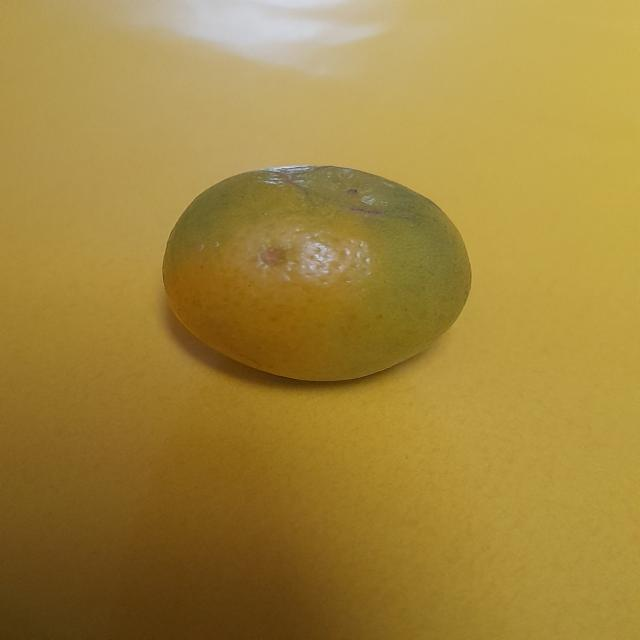greening: (154, 155, 467, 387)
